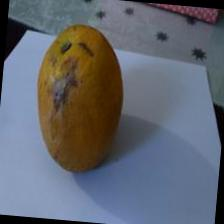Orange Rotten: (23, 14, 140, 180)
